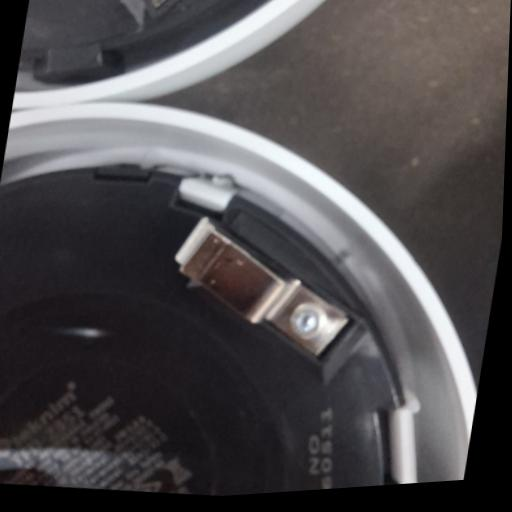yayli: (160, 203, 364, 370)
